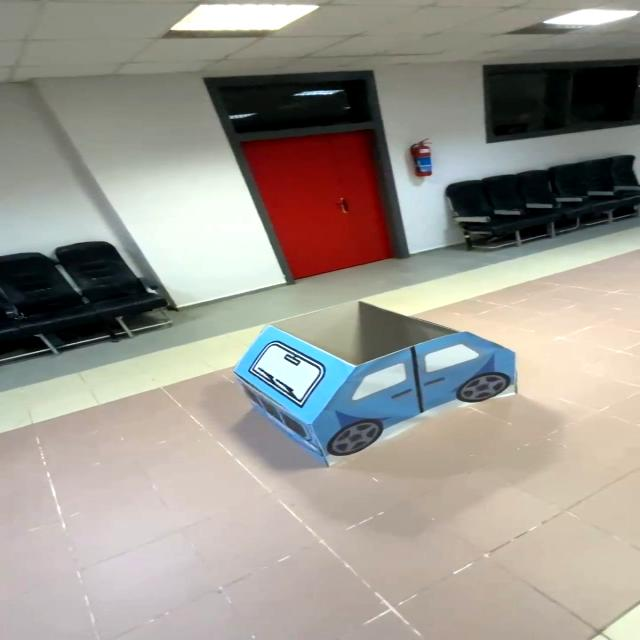blue_car: (221, 290, 538, 485)
